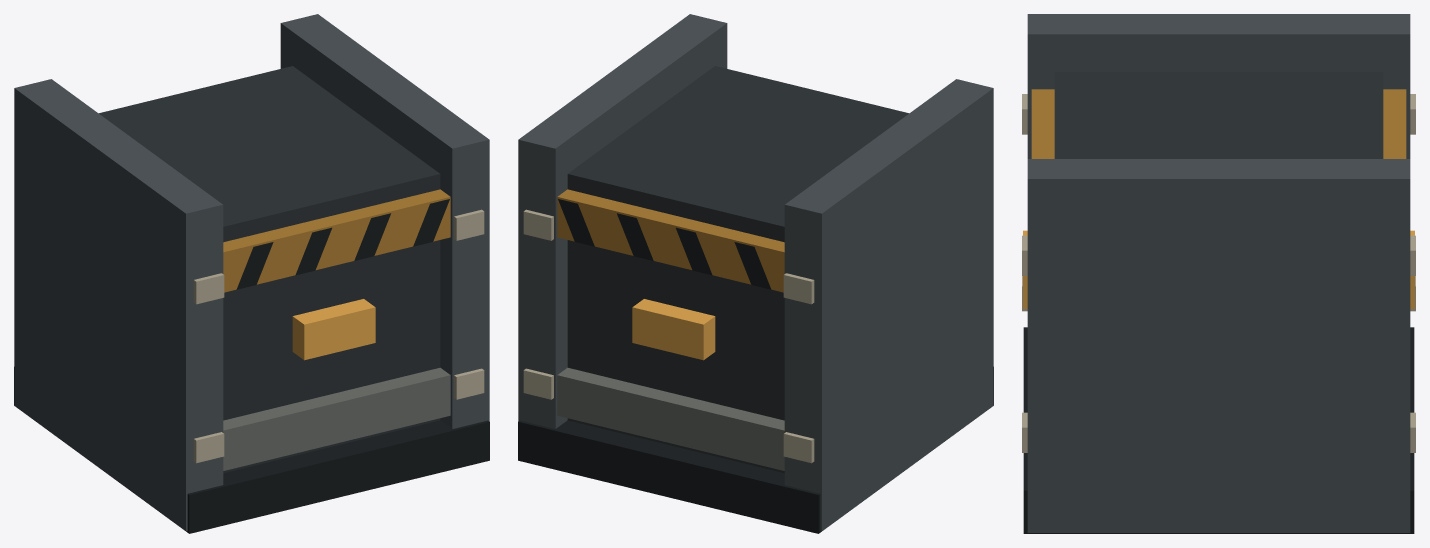
Rendered from RouteBarricadePanel.obj.
3 views of the same model, side by side, from view 1: azimuth 30°, elevation 25°; view 2: azimuth 150°, elevation 25°; view 3: azimuth 270°, elevation 25° (orthographic). The views are drawn at different scales.
Parts seen in each view (by area): view 1: RouteBarricadePanel; view 2: RouteBarricadePanel; view 3: RouteBarricadePanel.
Part boxes in pixels (x1,y1,x2,y2): RouteBarricadePanel: (14,14,489,533); RouteBarricadePanel: (518,14,993,533); RouteBarricadePanel: (1022,14,1415,533).
Bounding box in the file's own units: 1.96 × 1.97 × 1.98.
Materials: 1 (1 with a texture image).
